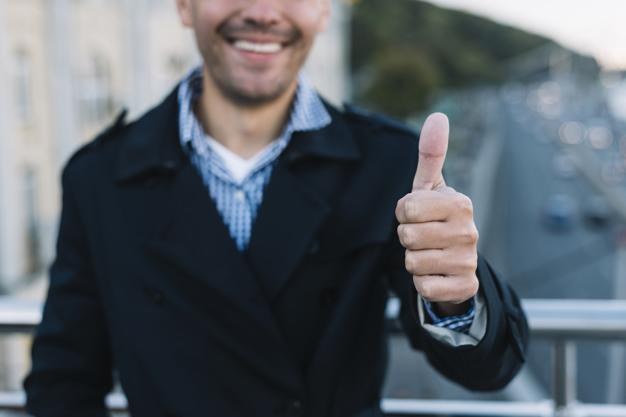thumbsup: (395, 112, 479, 302)
